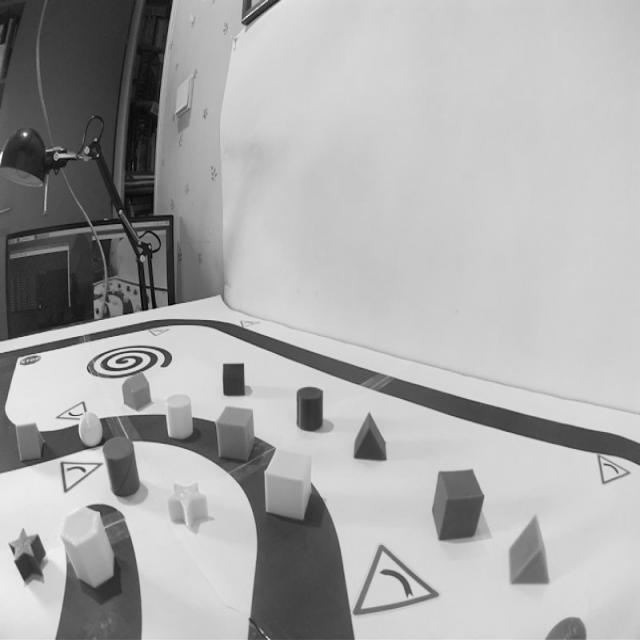ball: (78, 406, 103, 449)
cube: (262, 443, 314, 528), (432, 465, 484, 549), (215, 402, 256, 466)
cylinder: (102, 434, 141, 501), (162, 391, 195, 446), (296, 381, 324, 435)
hexagon: (59, 506, 121, 594)
home: (120, 371, 153, 411)
leftTurn: (334, 530, 443, 626)
nest: (83, 339, 174, 382)
star: (164, 479, 212, 538), (7, 524, 48, 588)
triangle: (504, 512, 552, 589), (352, 410, 388, 466), (14, 419, 46, 462), (220, 357, 249, 399)
